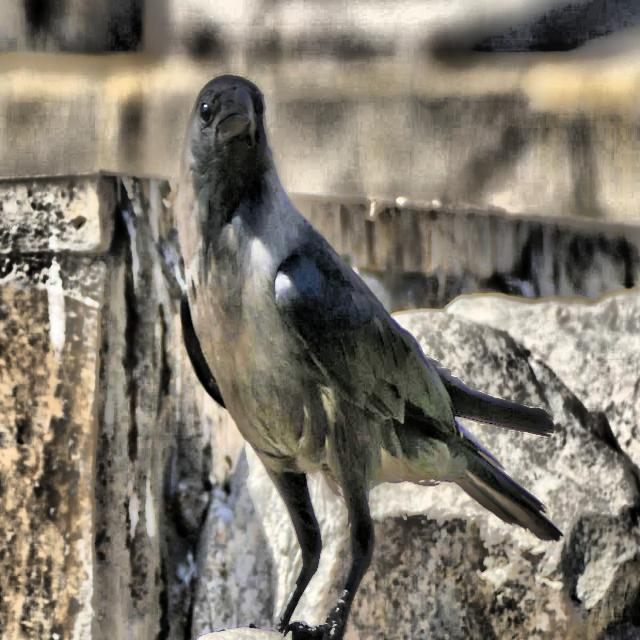crow: (168, 71, 596, 640)
